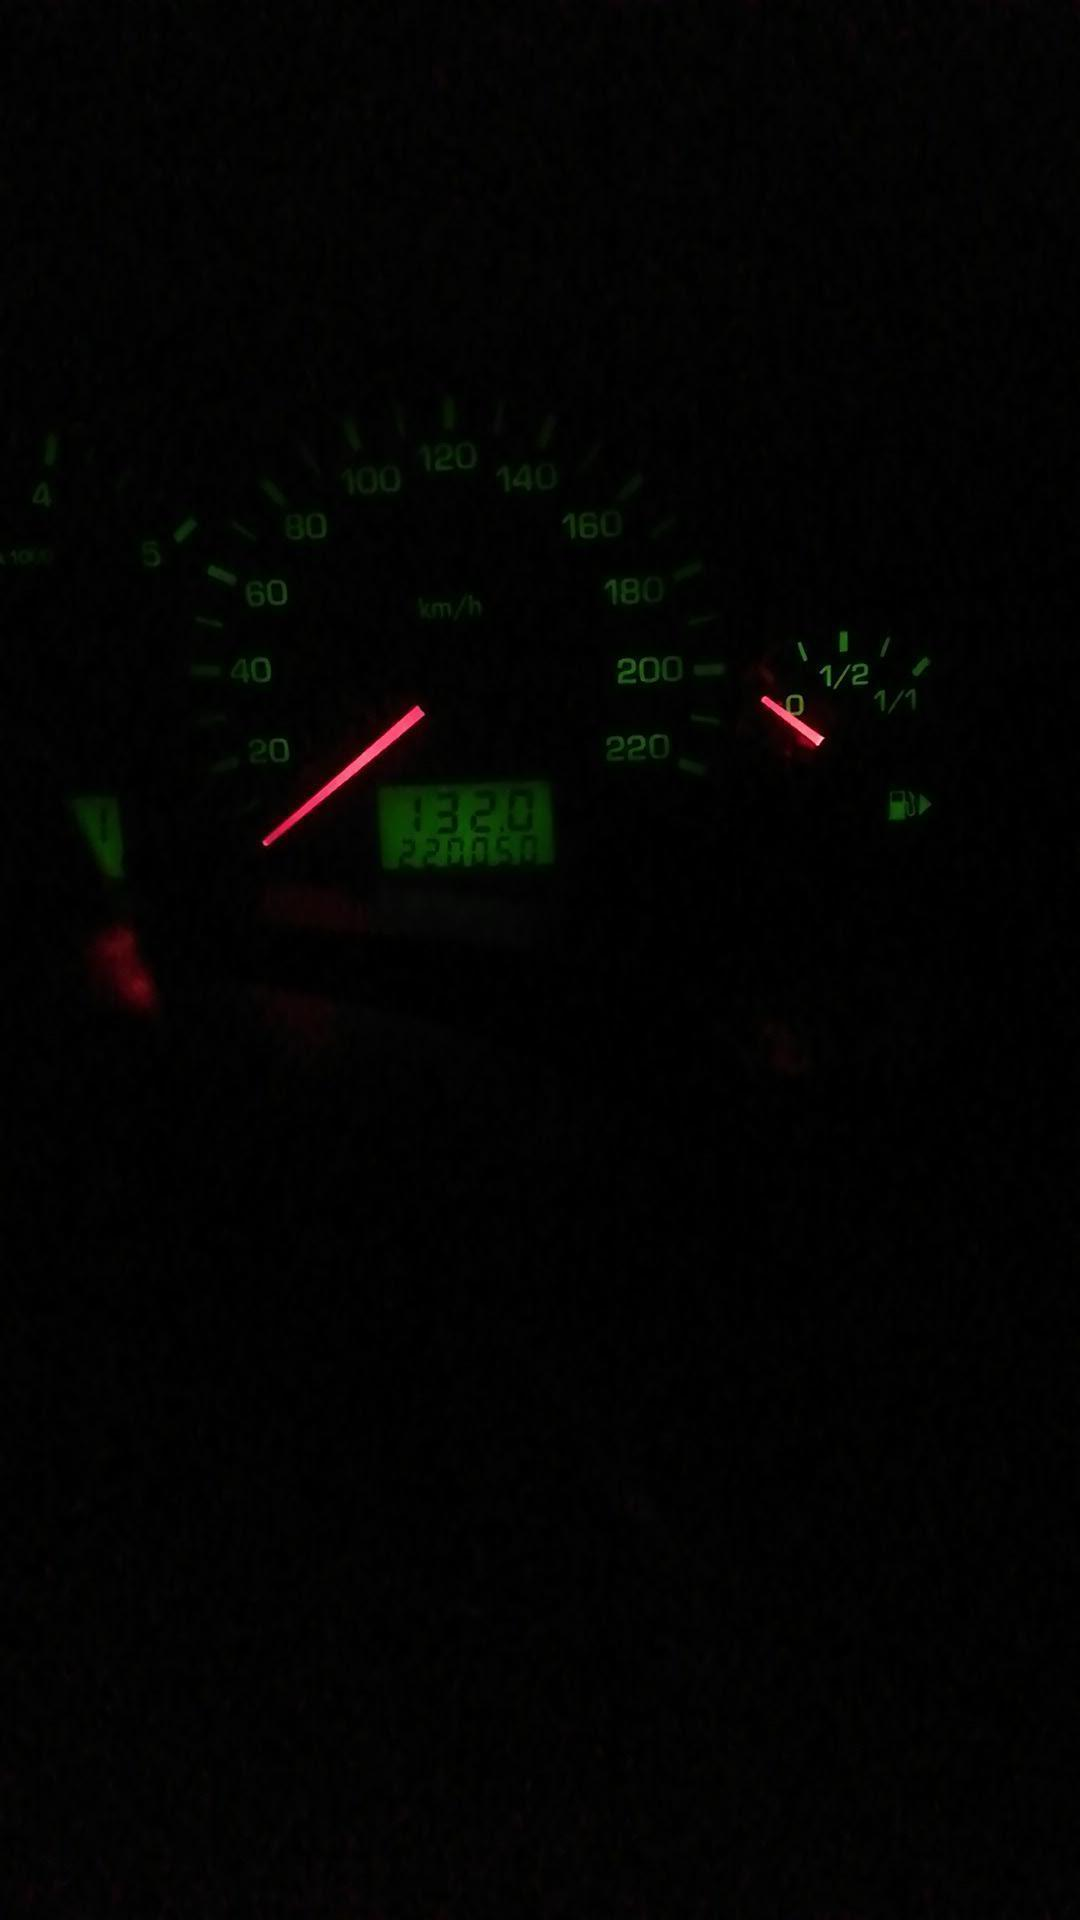,: (498, 825, 505, 833)
0: (506, 786, 534, 831), (446, 836, 465, 866), (469, 836, 489, 865), (520, 833, 537, 865)
1: (411, 795, 422, 833)
2: (468, 789, 496, 833), (397, 837, 415, 869), (422, 837, 440, 868)
3: (435, 790, 459, 833)
5: (495, 836, 513, 866)
odometer: (372, 775, 559, 876)
